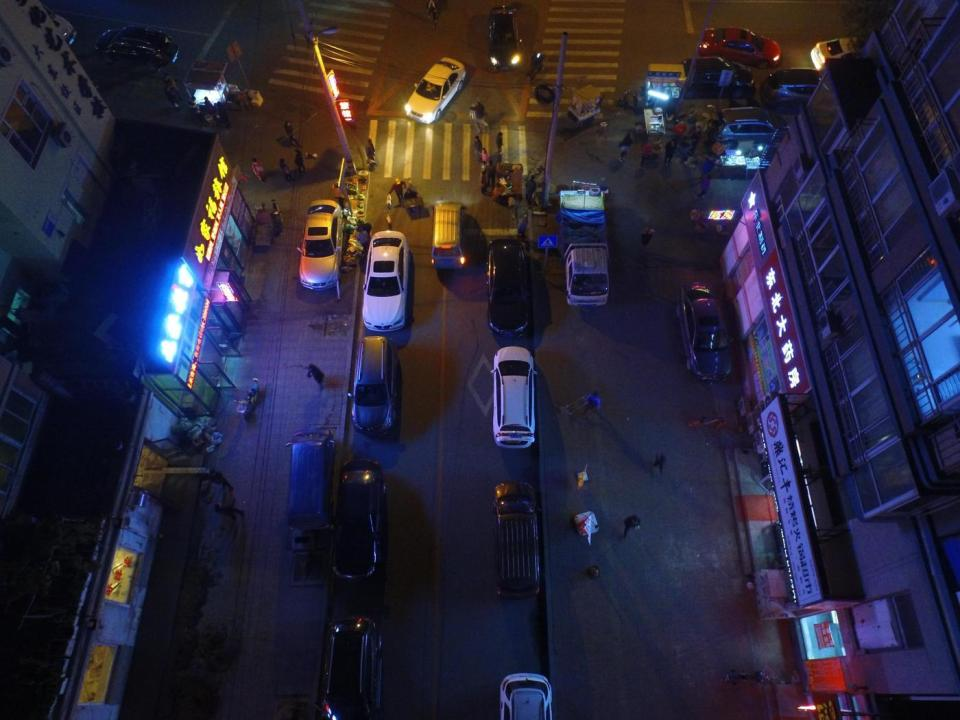car: (319, 616, 382, 718), (332, 460, 385, 580), (492, 481, 544, 598), (676, 283, 732, 381), (353, 336, 401, 436), (492, 345, 537, 449), (362, 230, 407, 331), (487, 238, 530, 338), (403, 56, 466, 124), (93, 25, 179, 71), (301, 199, 343, 290), (699, 27, 780, 69), (761, 68, 842, 110), (706, 106, 794, 144), (678, 56, 755, 99), (808, 36, 877, 72), (499, 673, 553, 719), (488, 7, 520, 70)
truck: (556, 182, 609, 308)
van: (288, 428, 330, 529), (431, 200, 467, 270), (34, 3, 76, 46)
